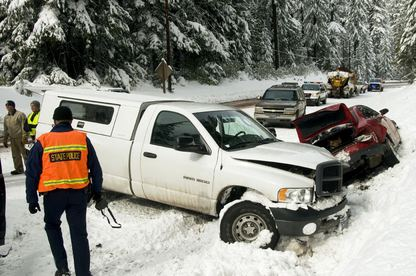car: (291, 103, 402, 185), (254, 82, 306, 128), (301, 81, 328, 107), (356, 81, 368, 94)
truck: (49, 106, 351, 245), (326, 65, 356, 100), (365, 79, 385, 92)
